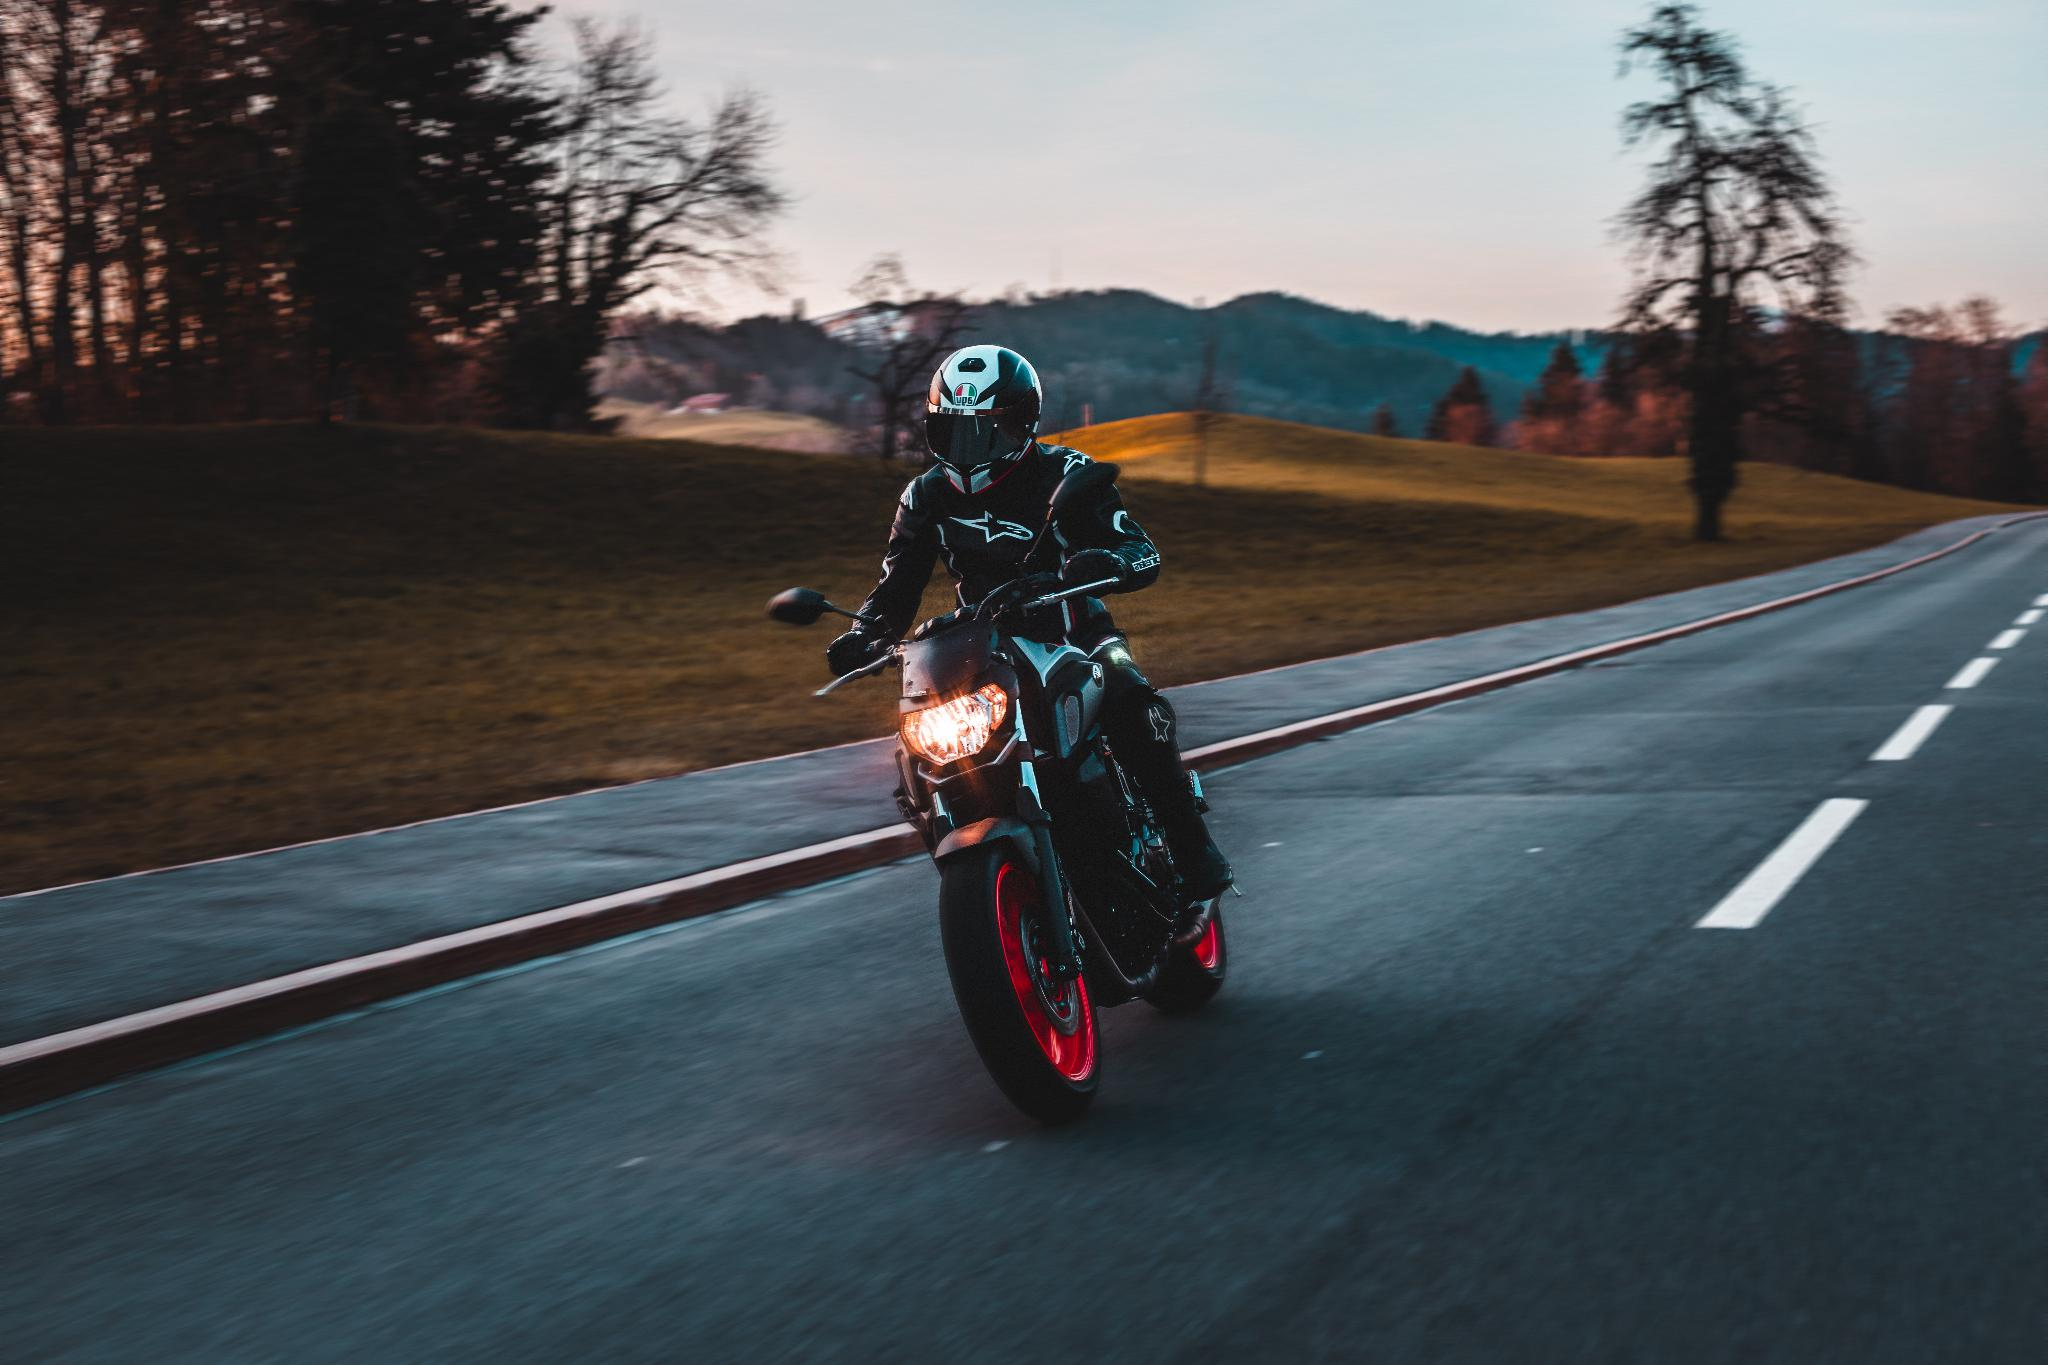motorcycle: (755, 446, 1238, 1130)
